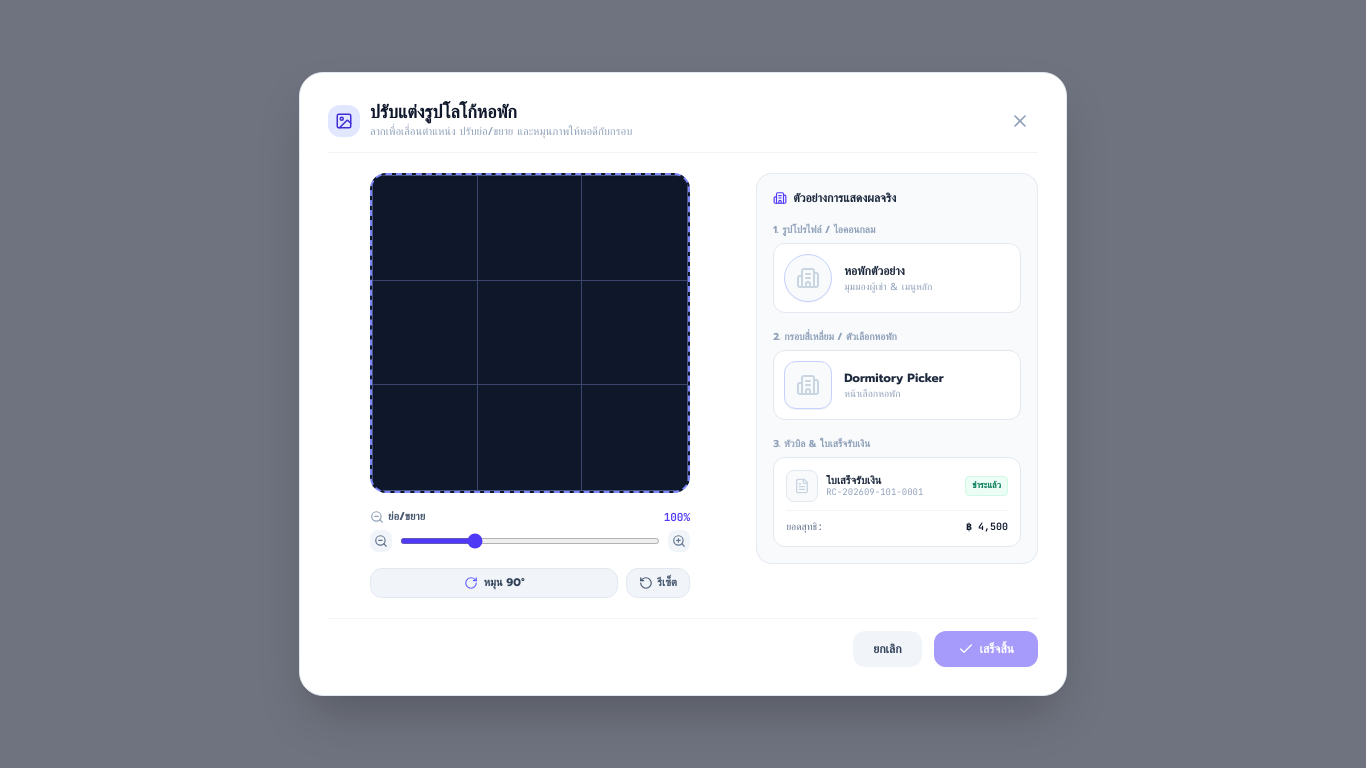
Test: Owner Round 2.4I: Verification Suite › Area 1: Logo Editor & Previews › 2. Zoom slider changes zoom percentage and stays within 50%-300%
The image size is (1366, 768).
Set the slider to "150" at [519, 540], box [400,538,660,544]
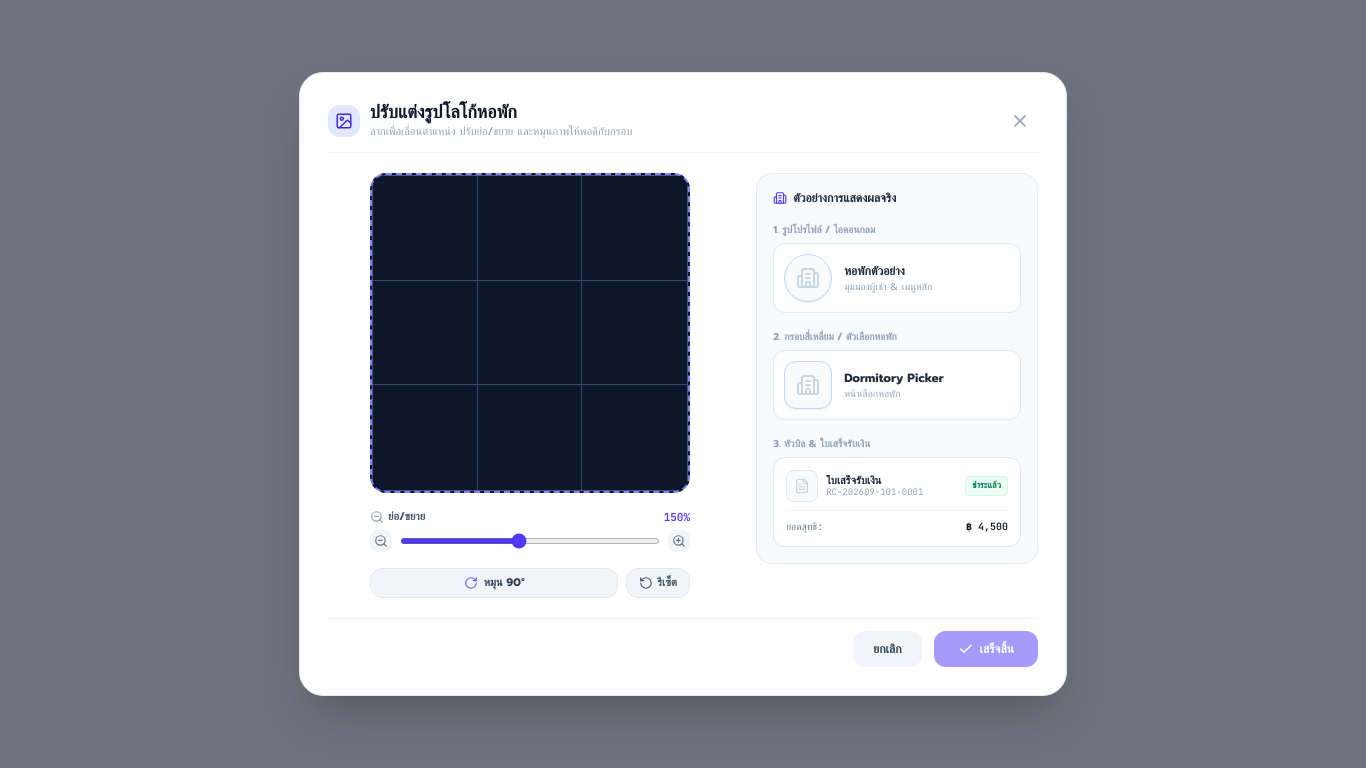
Expected: the text "150%" is shown, [664,509,690,526]
// Test upper clamp button
Click the button titled "ขยาย" at [679, 540], box [668,530,690,552]
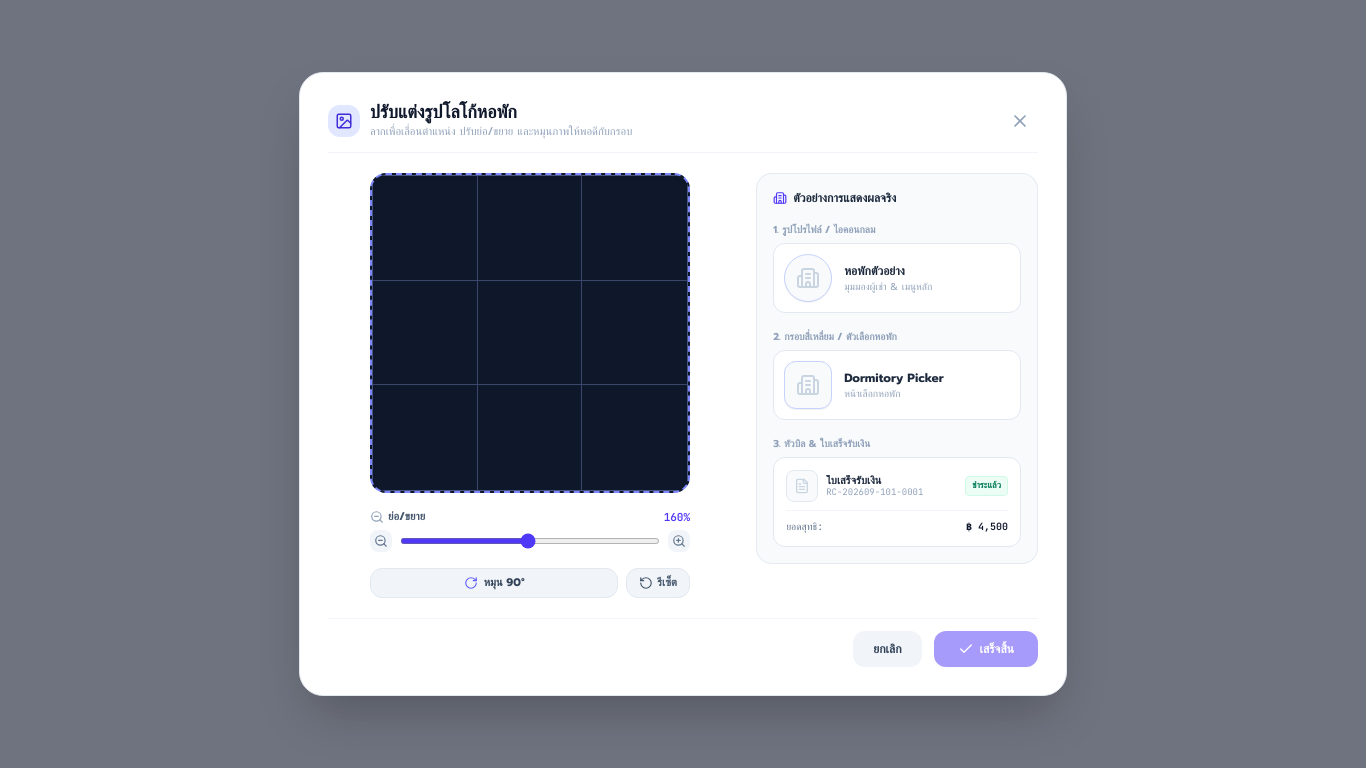
Expected: the text "160%" is shown, [664,509,690,526]
